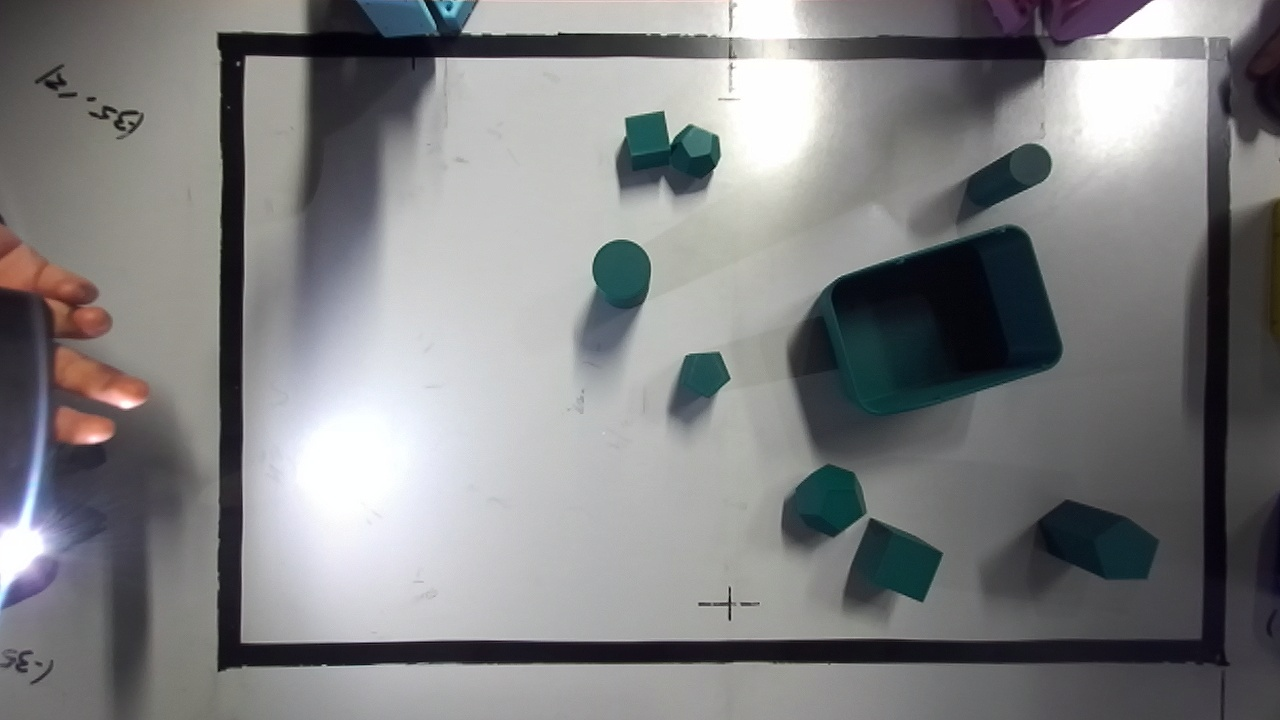bin: (813, 225, 1062, 414)
cube: (852, 519, 942, 601), (625, 111, 669, 169)
cylinder: (966, 144, 1051, 208), (592, 240, 650, 308)
dodecahedron: (791, 464, 865, 536), (670, 125, 720, 176)
hexagonal: (1038, 500, 1158, 578), (679, 352, 730, 396)
